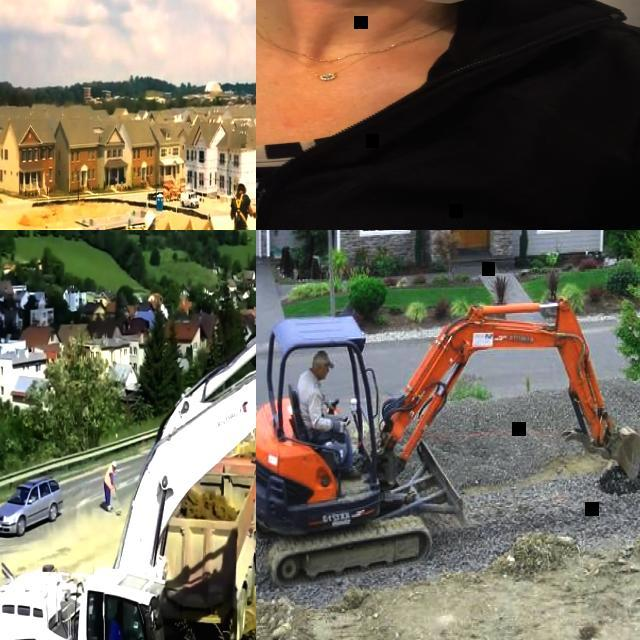helmet: (145, 211, 157, 230), (238, 179, 248, 192), (112, 461, 118, 467)
vest: (105, 465, 114, 489)
